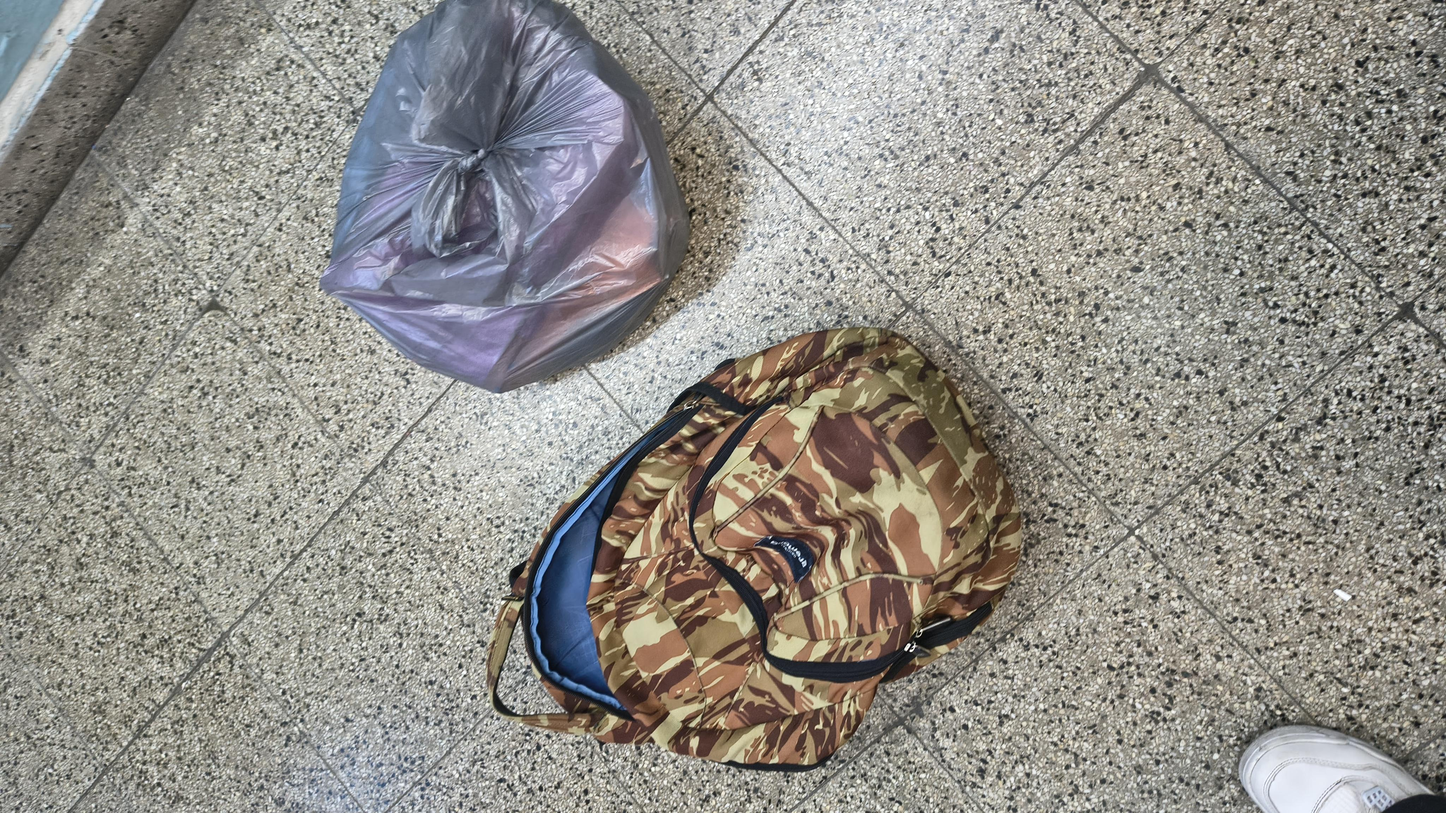Garbage: (690, 159, 1446, 401)
